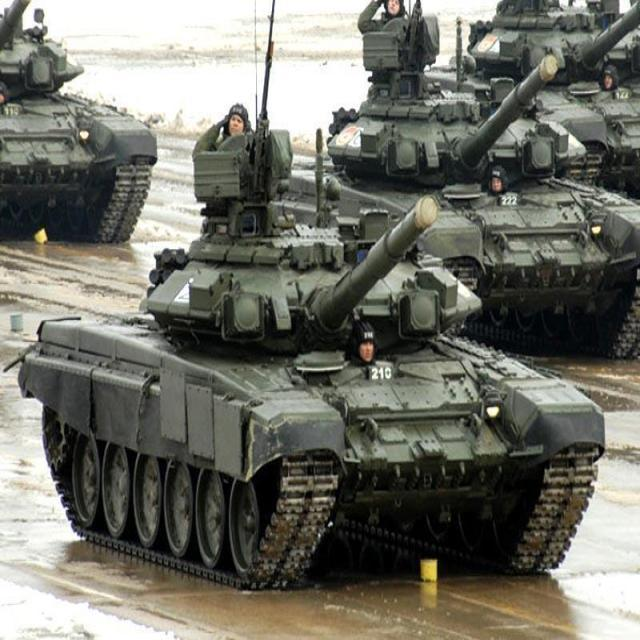MIL_MBT: (16, 140, 607, 592)
